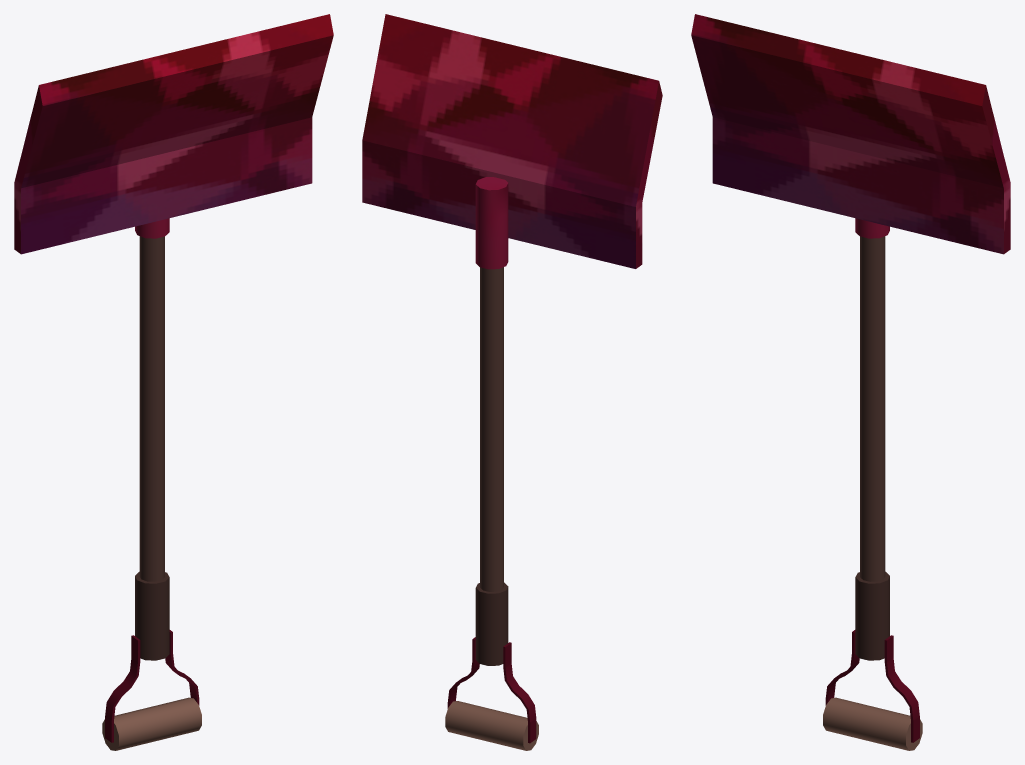
Rendered from Xeng Ruby.fbx.
The picture shows the model from 3 angles, left to right: view 1: azimuth 30°, elevation 25°; view 2: azimuth 150°, elevation 25°; view 3: azimuth 330°, elevation 25°; orthographic projection. The views are drawn at different scales.
Parts seen in each view (by area): view 1: L5, C5, TC5; view 2: L5, C5, TC5; view 3: L5, C5, TC5.
Boxes of the visible parts, bbox=[...] form: L5: bbox=[14, 14, 333, 254]; C5: bbox=[139, 236, 164, 581]; TC5: bbox=[102, 571, 201, 750]; L5: bbox=[362, 14, 662, 269]; C5: bbox=[480, 267, 503, 591]; TC5: bbox=[445, 582, 538, 750]; L5: bbox=[691, 14, 1010, 254]; C5: bbox=[860, 236, 885, 581]; TC5: bbox=[823, 571, 922, 750].
Size of the model in its own units: 128 by 301 by 33.8.
